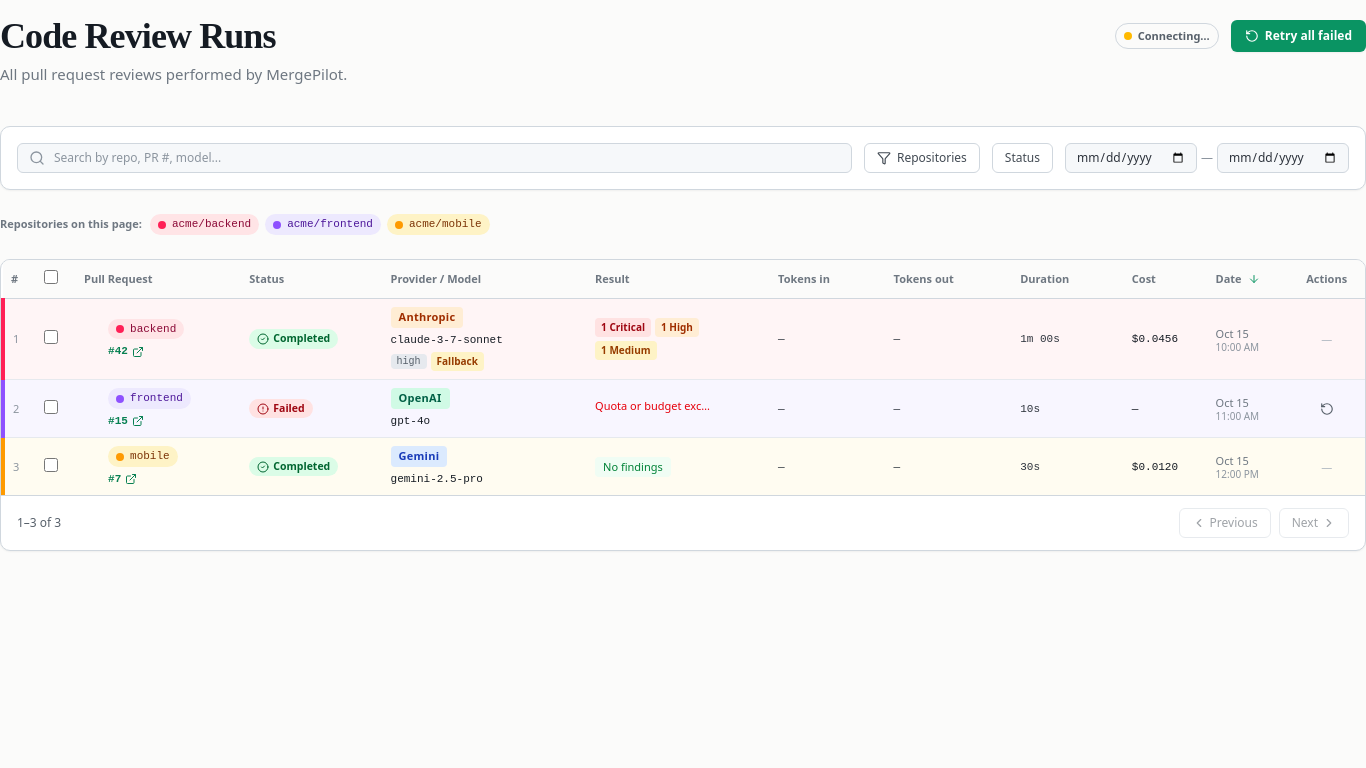
RunsPage - table columns, row navigation, filters and sorting › disables confirm when the dry run finds nothing to retry
Click the button "Retry all failed". click: (1298, 36)
box: [1231,20,1365,52]
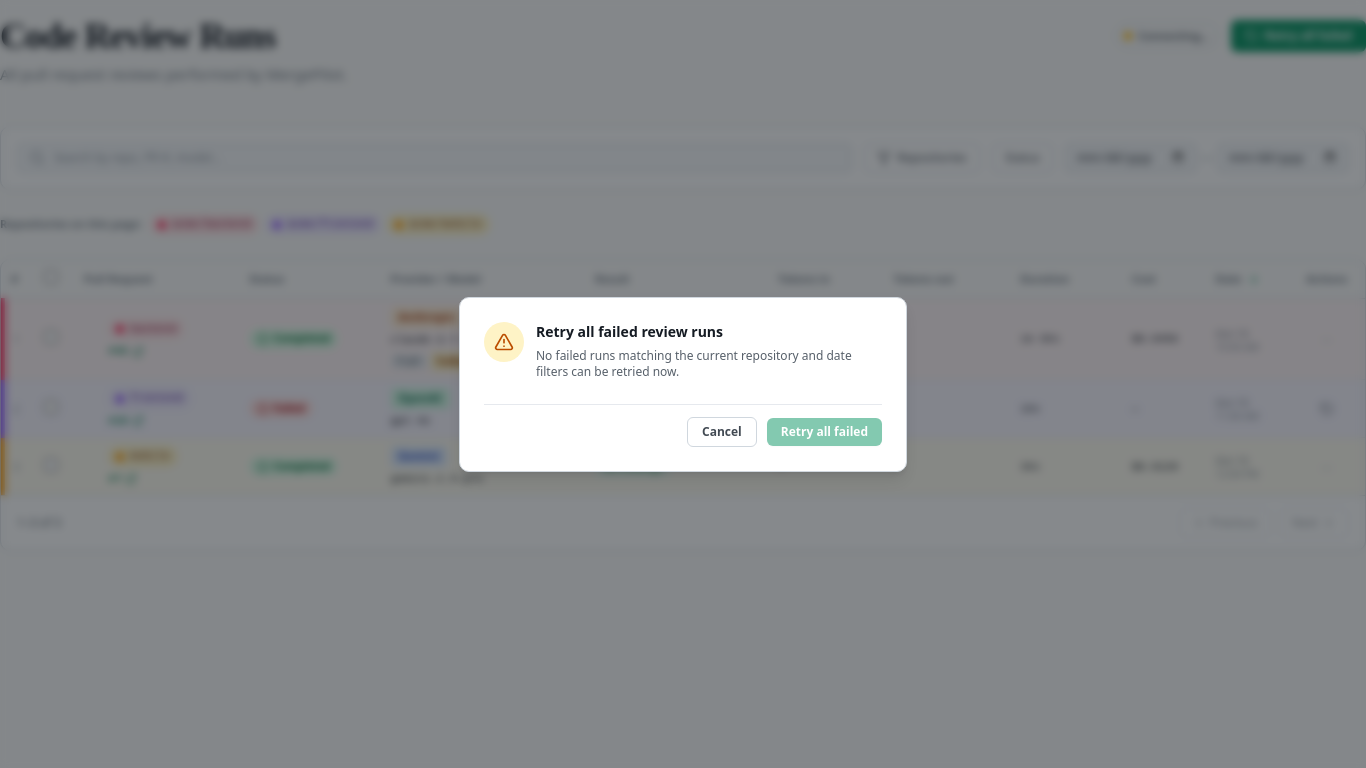
Result: the text "No failed runs matching" is shown at [536,346,852,380]
Result: the button "Retry all failed" is disabled at [767,418,882,446]
